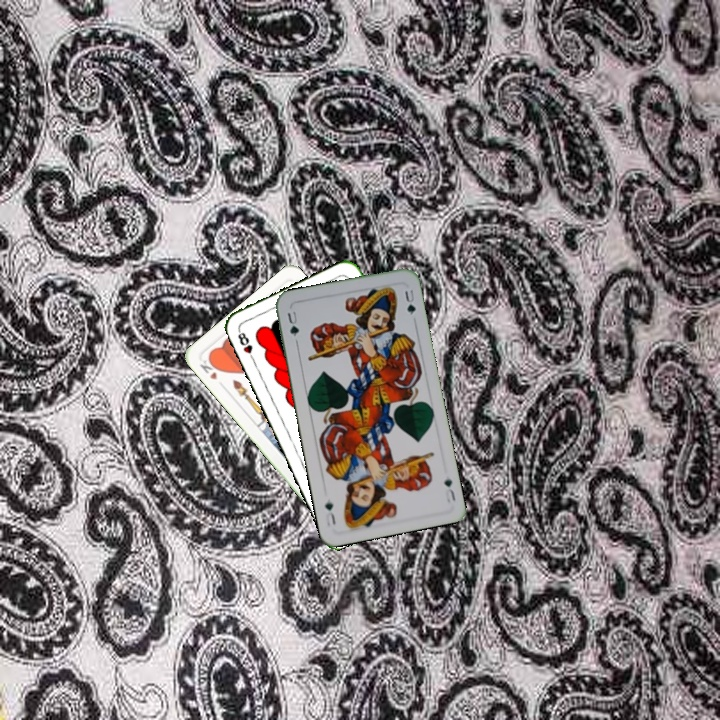GU: (283, 307, 302, 339), (440, 474, 458, 506)
H8: (234, 325, 257, 364)
HK: (196, 353, 223, 382)
